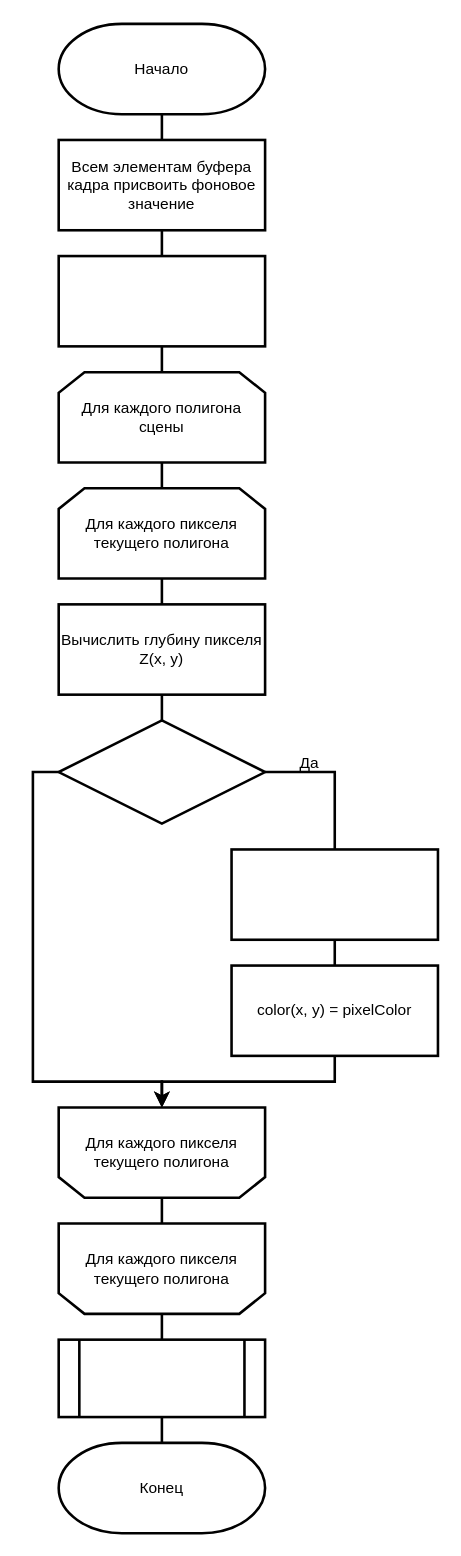
Image size: 461x1556. Some labels were removed from this diagram. The shapes that lost their labels are listed below. From the top down, each one's box as (x1, y1, x2, y2) in pixels, then its label:
(57, 254, 266, 347): Инициализировать z-буфер минимальным значением глубины
(57, 719, 266, 824): Z(x, y) > Z buf (x, y)
(230, 848, 439, 940): Z buf (x, y) = Z(x, y)
(57, 1338, 266, 1418): Обновить текущее изображение
